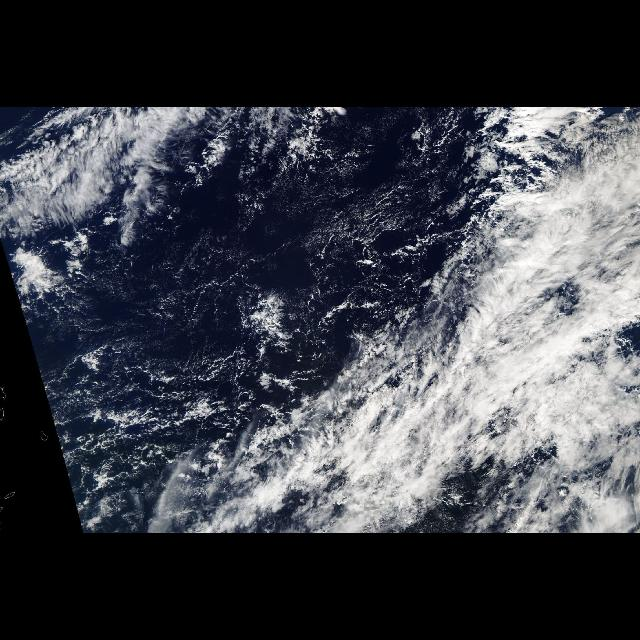Gravel: (46, 115, 480, 487)
